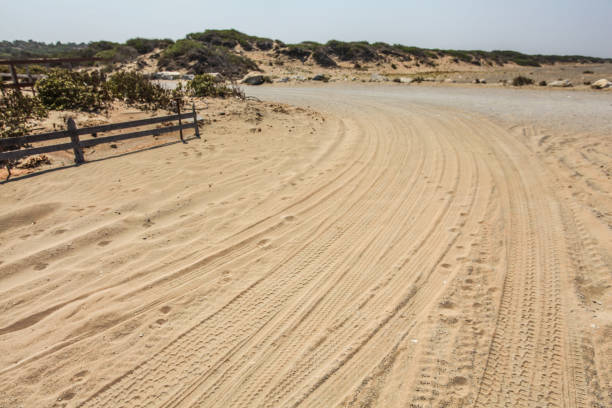vehicle_track: (0, 85, 611, 407), (0, 144, 371, 372), (86, 224, 344, 405), (342, 138, 498, 406), (288, 199, 460, 405), (474, 142, 572, 406), (266, 234, 388, 358), (373, 182, 384, 187)
